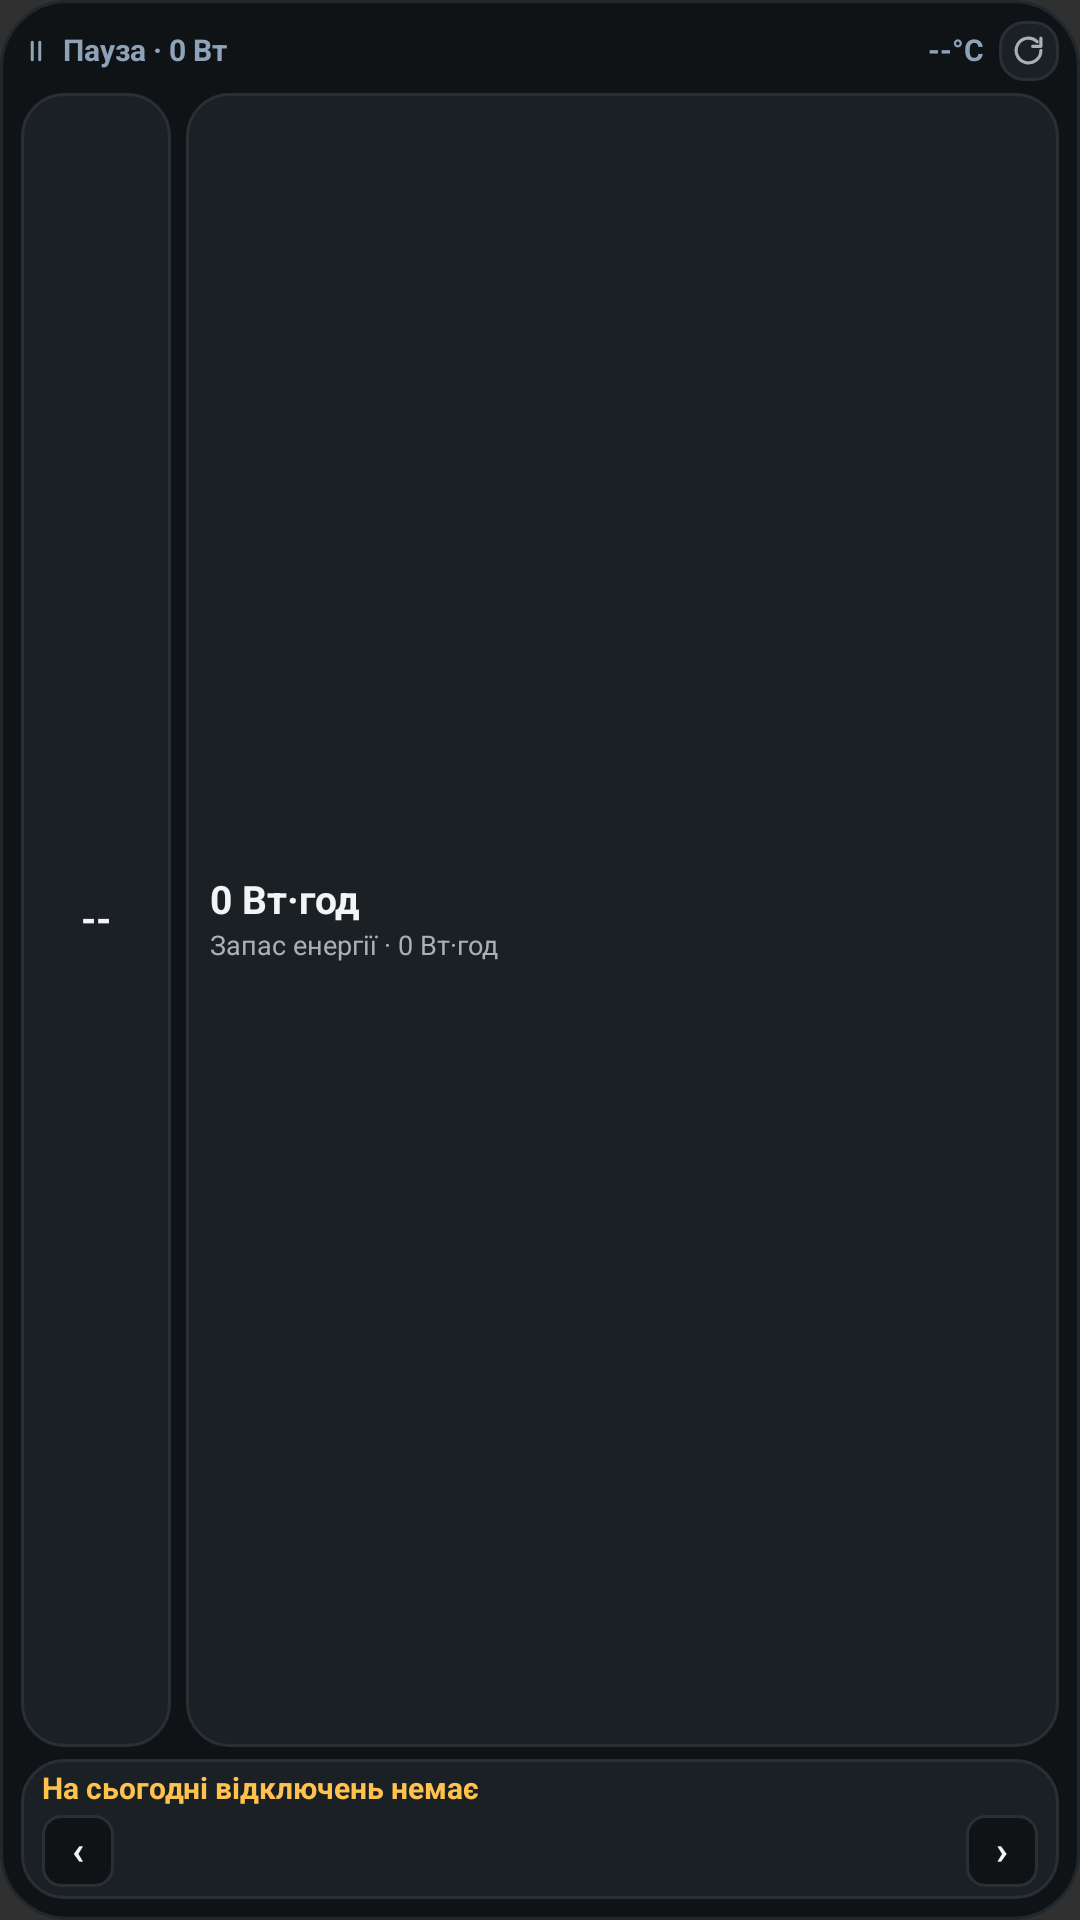

Icons on this 1080w x 1920h Android screen, each with its box as box(x1, y1, x2, y2):
refresh: box(1014, 36, 1043, 65)
